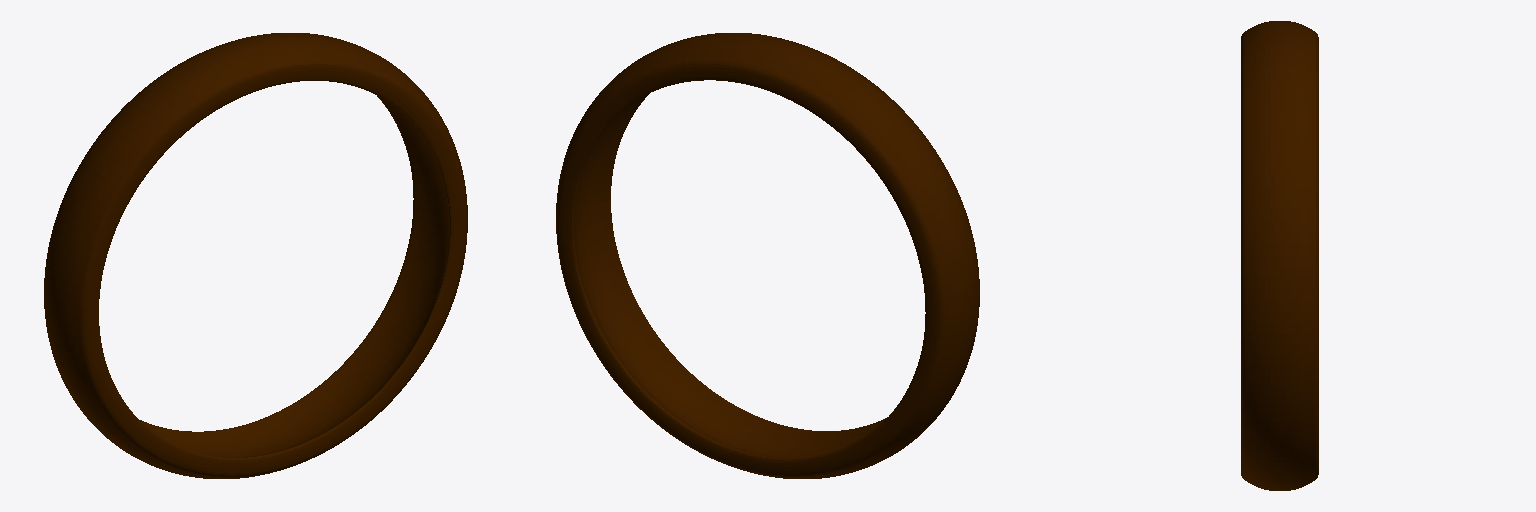
File: ring.obj
The picture shows the model from 3 angles: view 1: azimuth 30°, elevation 25°; view 2: azimuth 150°, elevation 25°; view 3: azimuth 270°, elevation 25°; orthographic projection.
Parts seen in each view (by area): view 1: Ring; view 2: Ring; view 3: Ring.
Boxes of the visible parts, x1=… form: Ring: x1=44, y1=33, x2=467, y2=478; Ring: x1=556, y1=33, x2=979, y2=478; Ring: x1=1241, y1=21, x2=1318, y2=490.
Size of the model in its own units: 18 by 18 by 3.